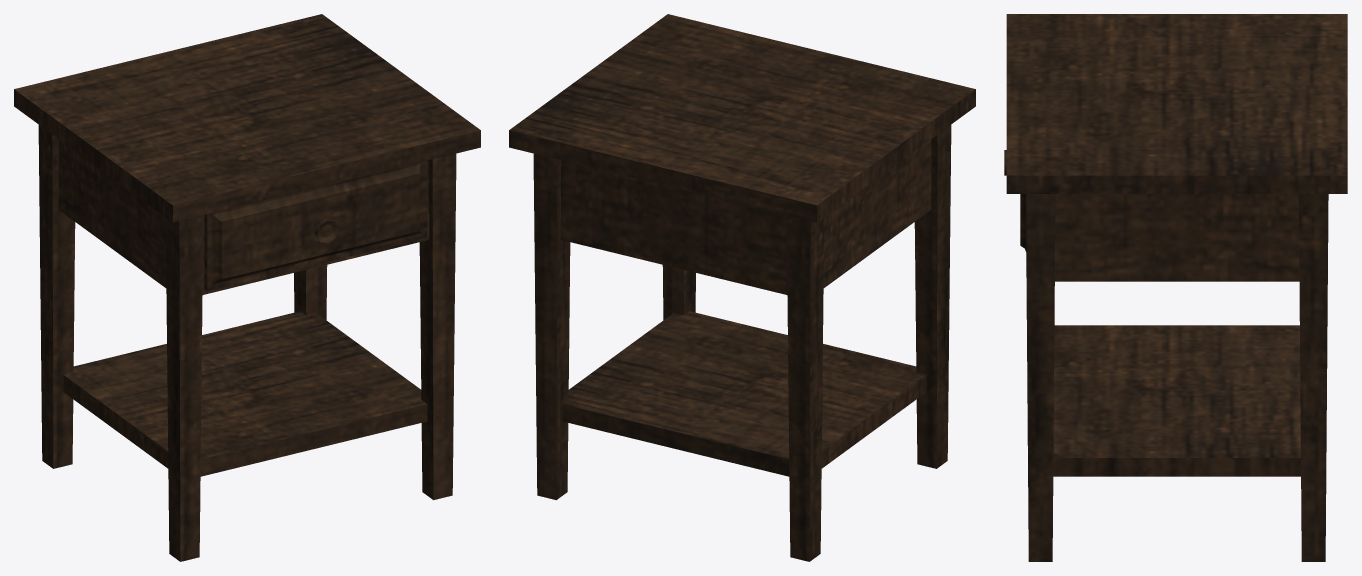
Rendered from bedside_table_1_1.obj.
3 renders of one model, left to right at view 1: azimuth 30°, elevation 25°; view 2: azimuth 150°, elevation 25°; view 3: azimuth 270°, elevation 25°, orthographic. The views are drawn at different scales.
Parts seen in each view (by area): view 1: bedside_table_1_1, bedside_table_1_1_drawer; view 2: bedside_table_1_1; view 3: bedside_table_1_1.
Boxes of the visible parts, x1=… form: bedside_table_1_1: x1=14, y1=14, x2=480, y2=561; bedside_table_1_1_drawer: x1=204, y1=160, x2=427, y2=291; bedside_table_1_1: x1=509, y1=14, x2=975, y2=561; bedside_table_1_1: x1=1006, y1=14, x2=1347, y2=561.
Bounding box in the file's own units: 0.56 × 0.64 × 0.5035.
